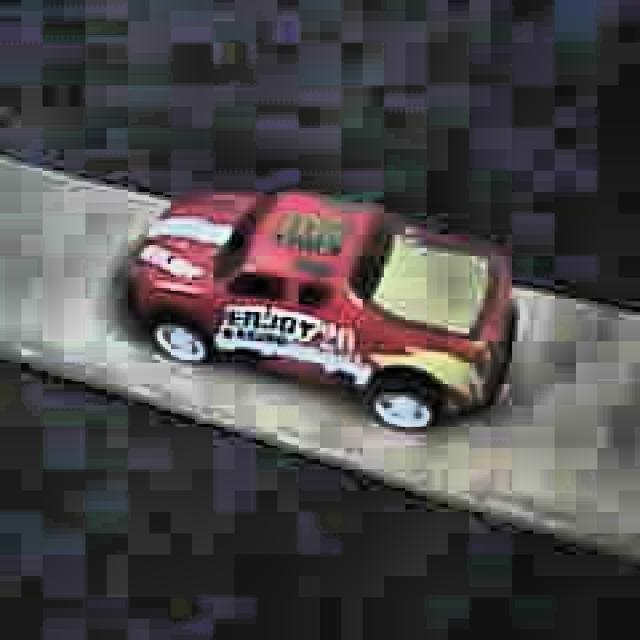car: (126, 182, 521, 436)
